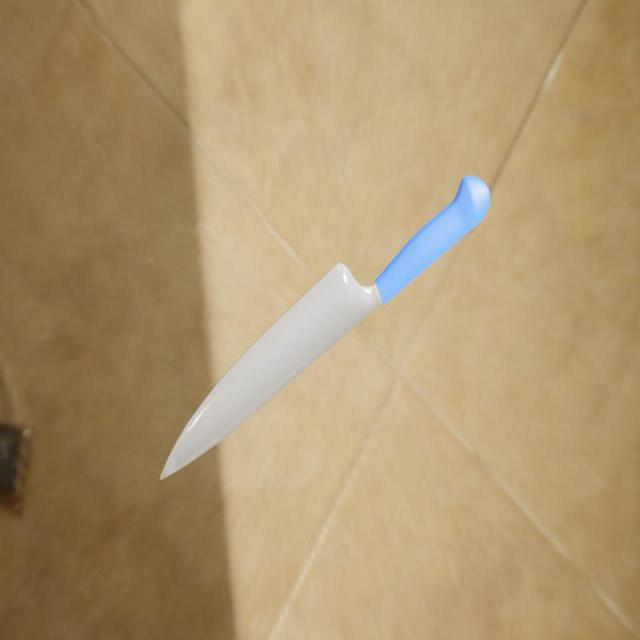knife: (373, 176, 491, 305)
